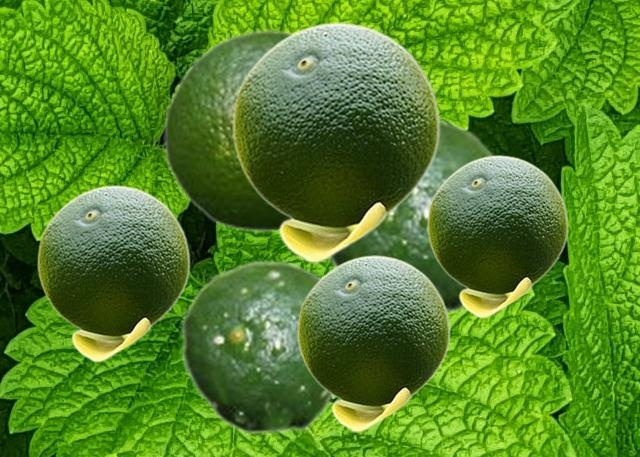calamansi: (232, 22, 439, 262), (324, 115, 500, 316), (180, 259, 336, 435), (163, 29, 298, 232), (37, 185, 189, 361), (297, 255, 449, 431), (427, 155, 567, 317)
